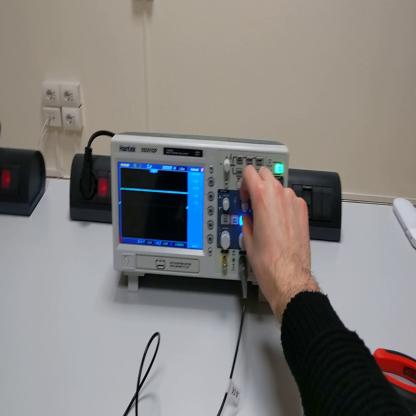hand: (240, 162, 316, 311)
oscilloscope: (110, 133, 288, 306)
pliers: (373, 346, 416, 403)
socket: (2, 146, 49, 220), (67, 153, 113, 227)
